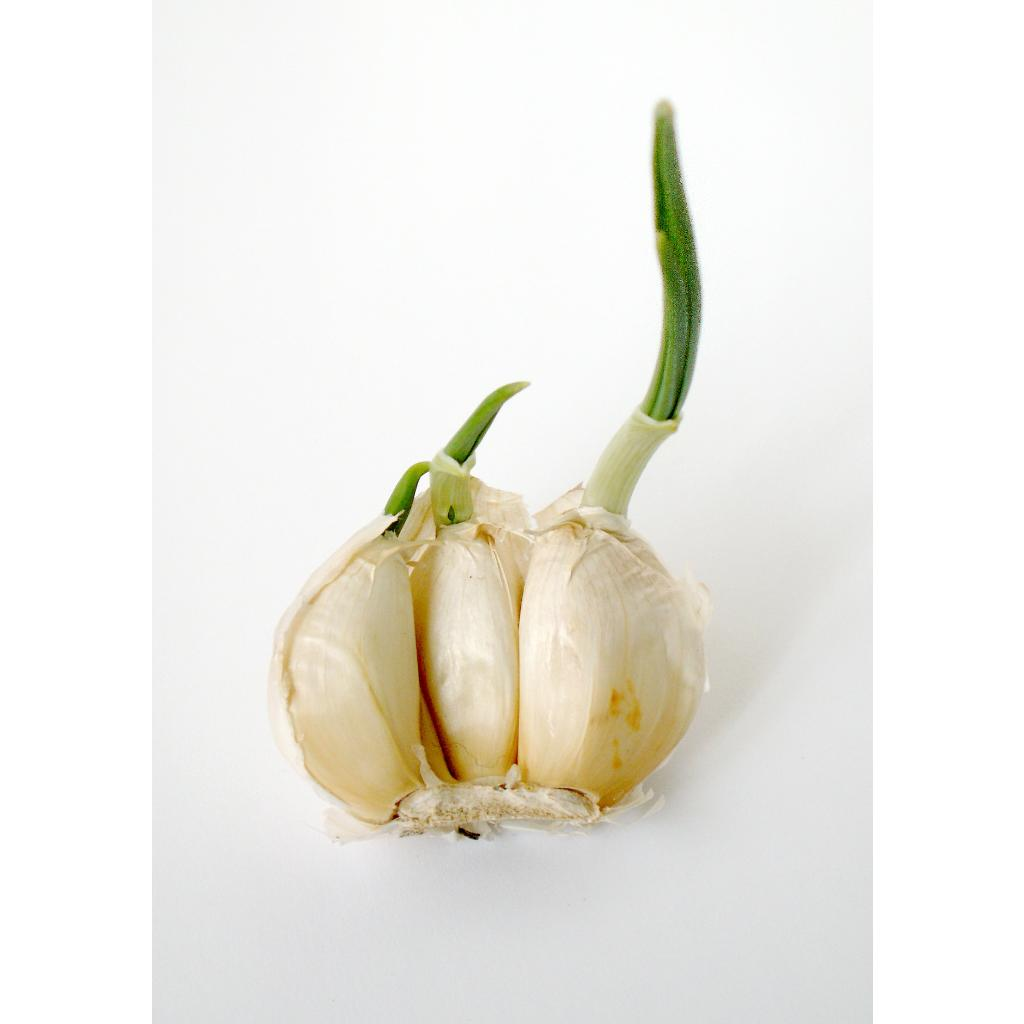garlic: (268, 385, 708, 835), (517, 103, 706, 806)
